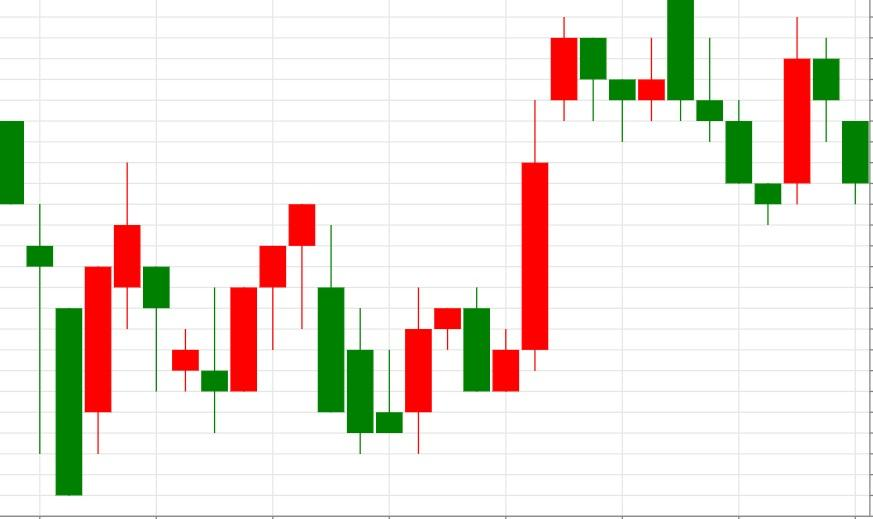hanging_man_fall: (200, 203, 317, 433)
inverse_hammer_rise: (287, 203, 403, 456)
three_white_soldiers_rise: (433, 16, 579, 393)
